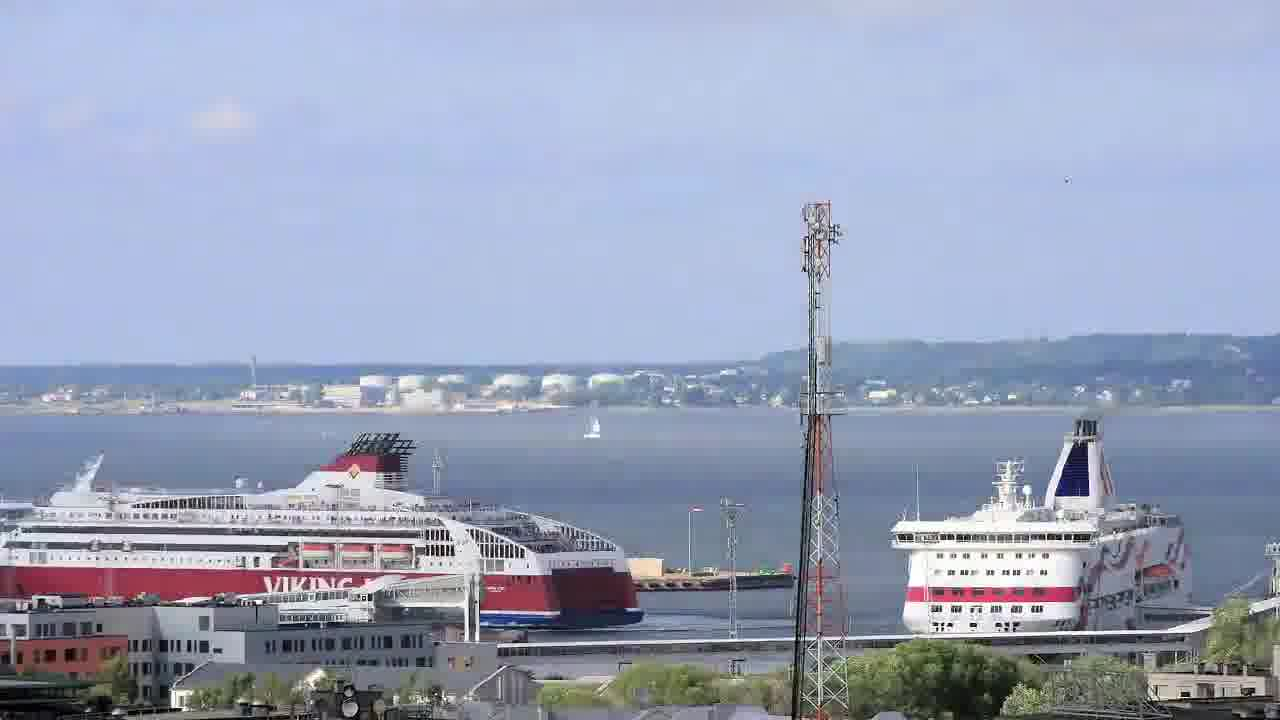type-2: (565, 399, 617, 454)
type-3: (0, 434, 654, 625), (868, 415, 1225, 638)
